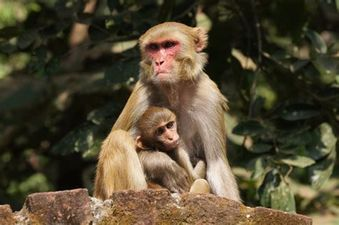monkey: (114, 10, 248, 212), (84, 94, 202, 213)
